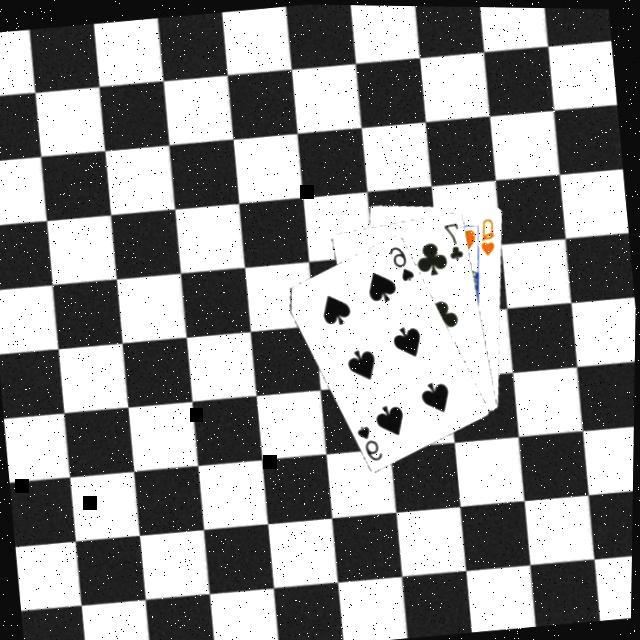6S: (355, 420, 388, 466), (386, 241, 419, 285)
7C: (441, 218, 469, 264)
QH: (476, 214, 501, 258)
